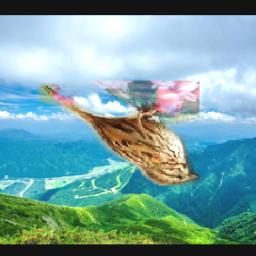Sparrow: (35, 81, 199, 188)
